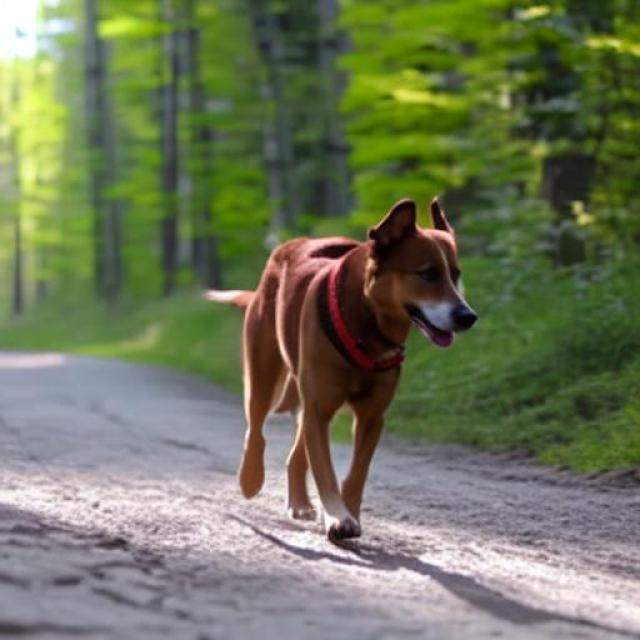Dog: (202, 198, 478, 540)
